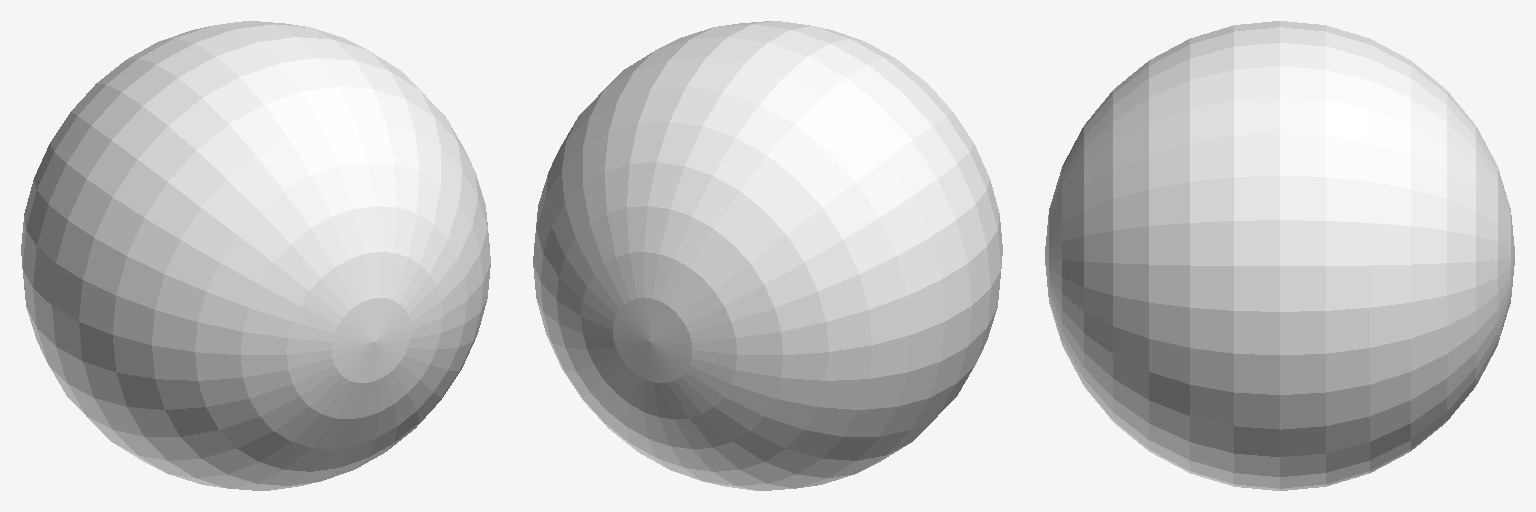
3 views of the same model, side by side, from view 1: azimuth 30°, elevation 25°; view 2: azimuth 150°, elevation 25°; view 3: azimuth 270°, elevation 25° (orthographic).
Visible parts, largest first — view 1: 球; view 2: 球; view 3: 球.
Part boxes in pixels (left/top/right/bottom): 球: left=21, top=21, right=490, bottom=490; 球: left=533, top=21, right=1002, bottom=490; 球: left=1045, top=21, right=1514, bottom=490.
Size of the model in its own units: 1 by 1 by 1.
1 materials, 1 textured.